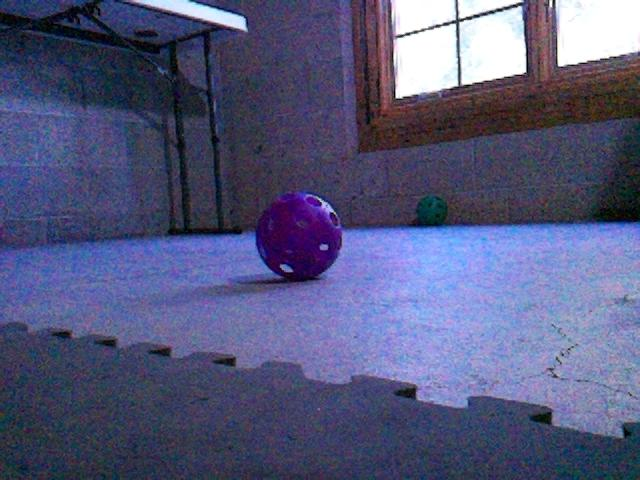Green: (416, 195, 448, 226)
Purple: (253, 191, 343, 282)
